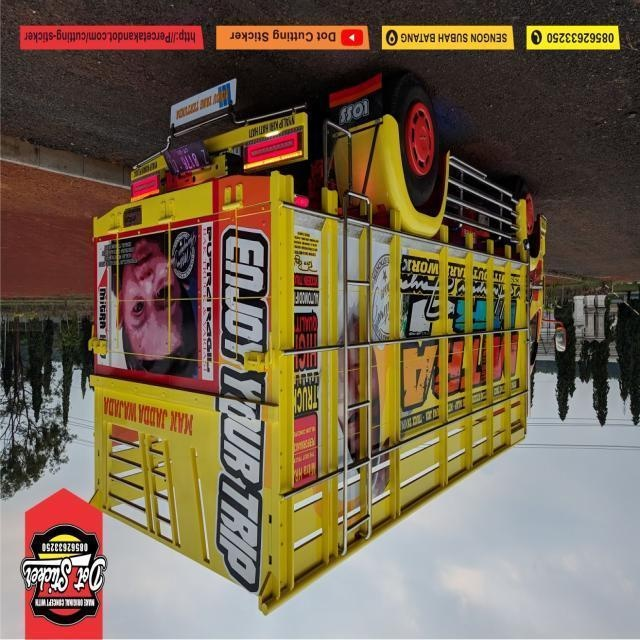Truck: (86, 75, 568, 616)
